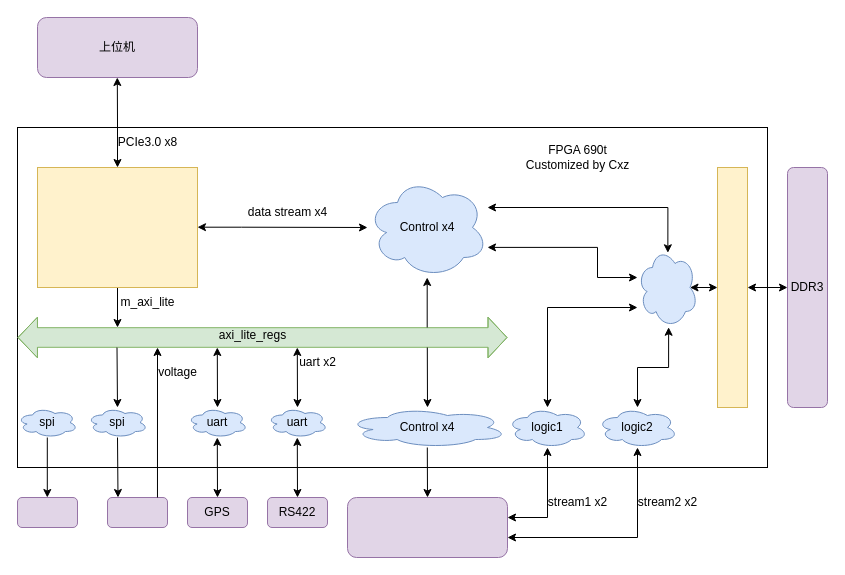
The diagram is 845 pixels wide and 575 high, and some of its shapes have lost their labels. Here are the shapes that lost their labels. From the top down, the centre of each, then its label:
At point (117, 227): "XDMA".
At point (667, 287): "control".
At point (732, 287): "MIG".
At point (47, 512): "AD9516".
At point (137, 512): "AD7606".
At point (427, 527): "BLK2711 x4".
